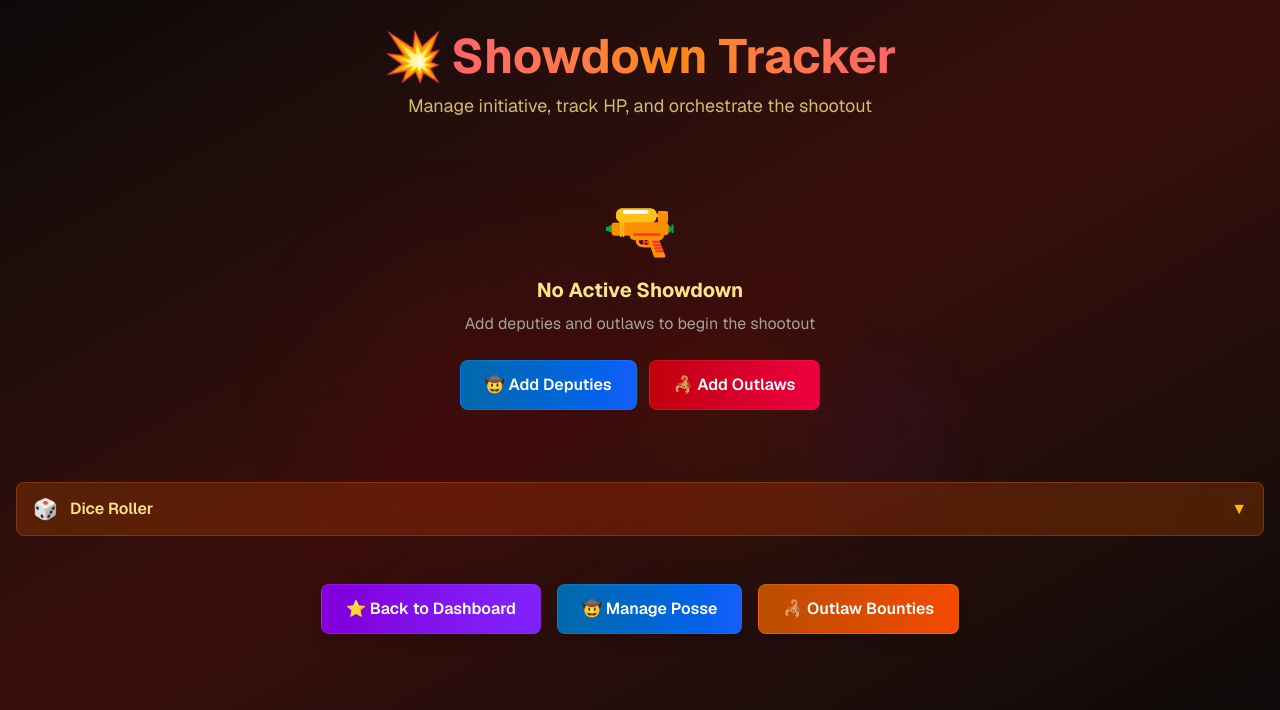
Test: CombatPage › dice roller panel › should collapse dice roller panel when toggle is clicked again
Open panel
What coordinates should you click on to do the following:
click the button "🎲 Dice Roller ▼"
I would click on:
 (112, 508)
Its box is [16,482,1264,536].
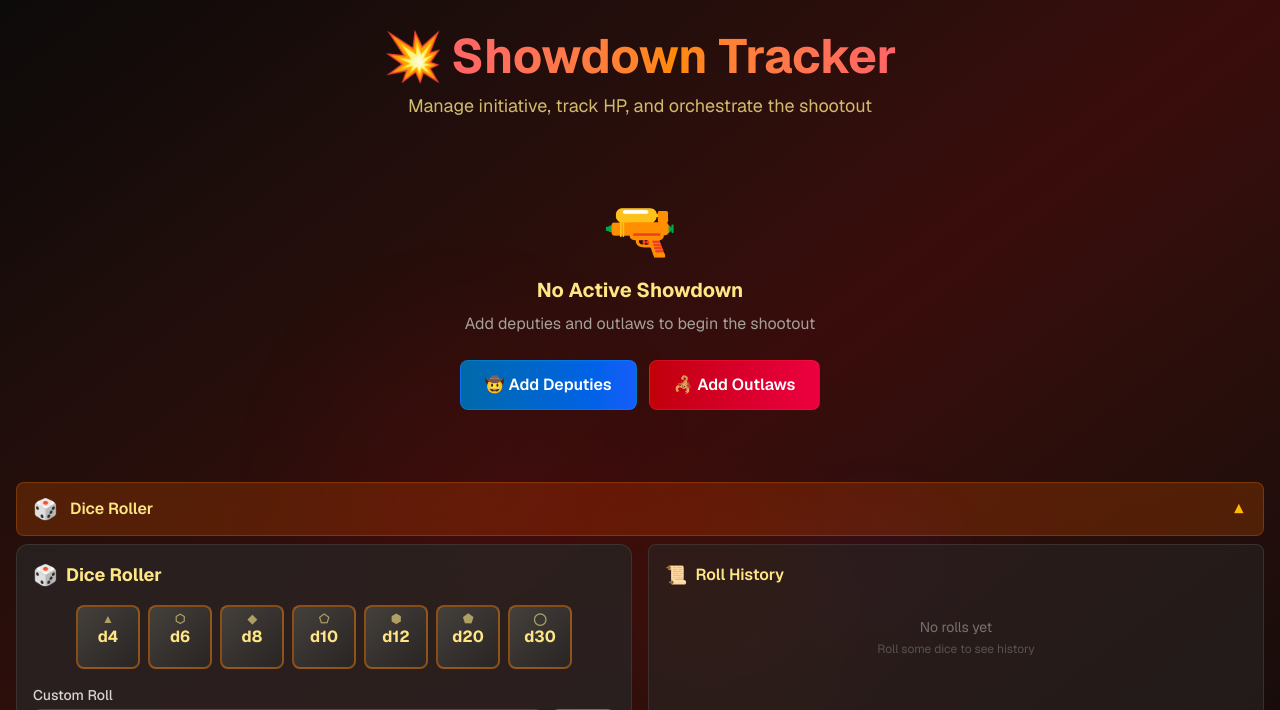
Check: the button "🎲 Dice Roller ▼" is expanded
Close panel
What coordinates should you click on to do the following:
click the button "🎲 Dice Roller ▼"
I would click on:
 (112, 508)
Its box is [16,482,1264,536].
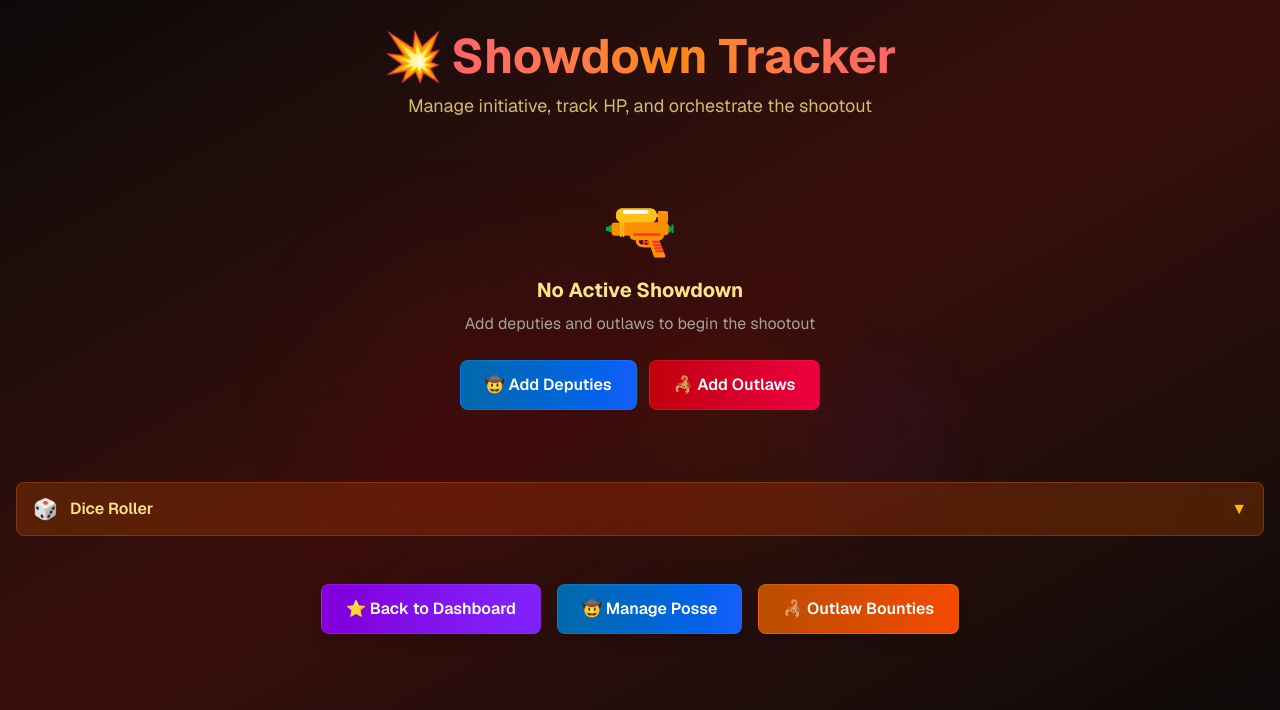
Check: the button "🎲 Dice Roller ▼" is collapsed, box [16,482,1264,536]
